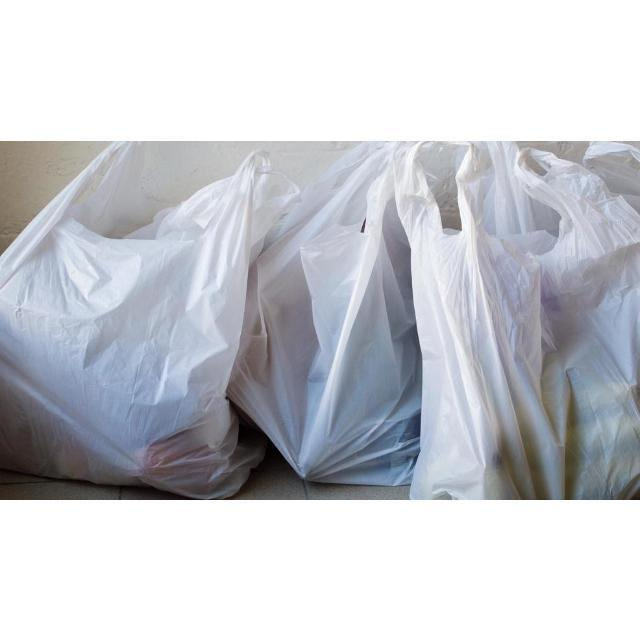Single-layer Plastic: (0, 142, 298, 498), (229, 142, 421, 484), (394, 142, 564, 498), (516, 150, 640, 499)
